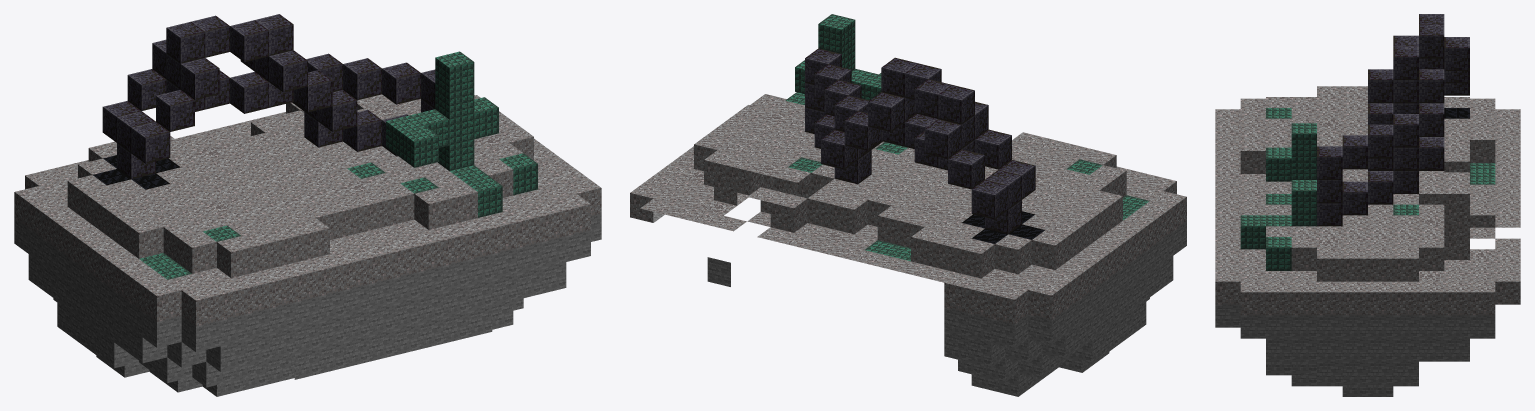
Rendered from broken_conduit_cold.glb.
3 views of the same model, side by side, from view 1: azimuth 30°, elevation 25°; view 2: azimuth 150°, elevation 25°; view 3: azimuth 270°, elevation 25° (orthographic). The views are drawn at different scales.
Visible parts, largest first — view 1: node_2, node_1, node_4, node_3; view 2: node_2, node_4, node_3, node_1; view 3: node_2, node_1, node_4, node_3.
Part boxes in pixels (x1=…): node_2: x1=113, y1=14, x2=586, y2=390; node_1: x1=242, y1=175, x2=601, y2=379; node_4: x1=14, y1=101, x2=241, y2=396; node_3: x1=142, y1=236, x2=269, y2=387; node_2: x1=630, y1=14, x2=1078, y2=286; node_4: x1=944, y1=159, x2=1173, y2=396; node_3: x1=1080, y1=149, x2=1186, y2=255; node_1: x1=752, y1=94, x2=1092, y2=159; node_2: x1=1266, y1=14, x2=1520, y2=396; node_1: x1=1215, y1=118, x2=1265, y2=338; node_4: x1=1266, y1=83, x2=1520, y2=141; node_3: x1=1215, y1=98, x2=1265, y2=141.
Bounding box in the file's own units: 18 × 11 × 12.
1 material, 1 textured.
